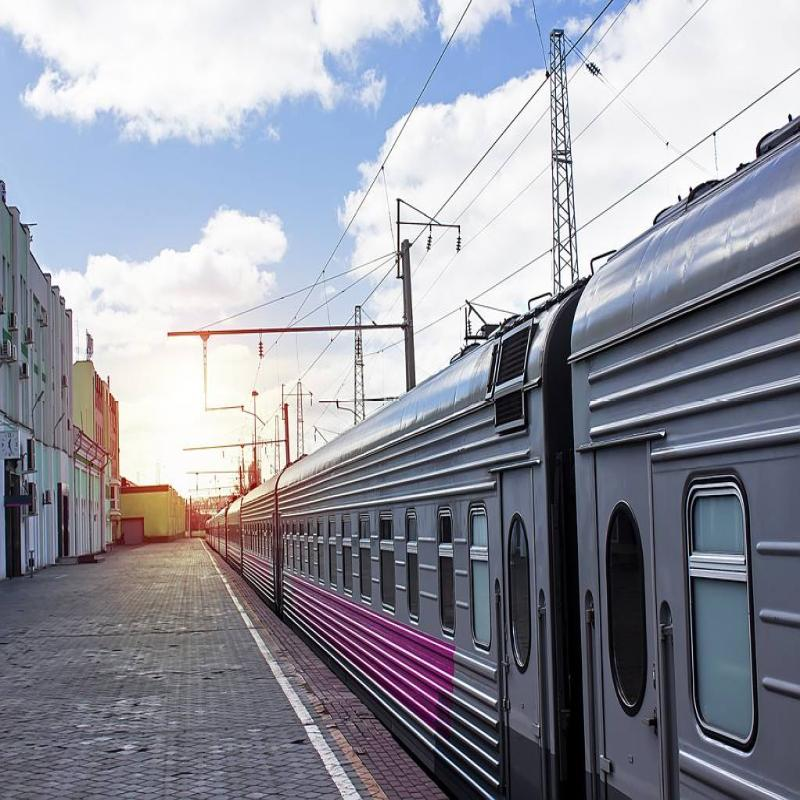train: (277, 360, 778, 763)
